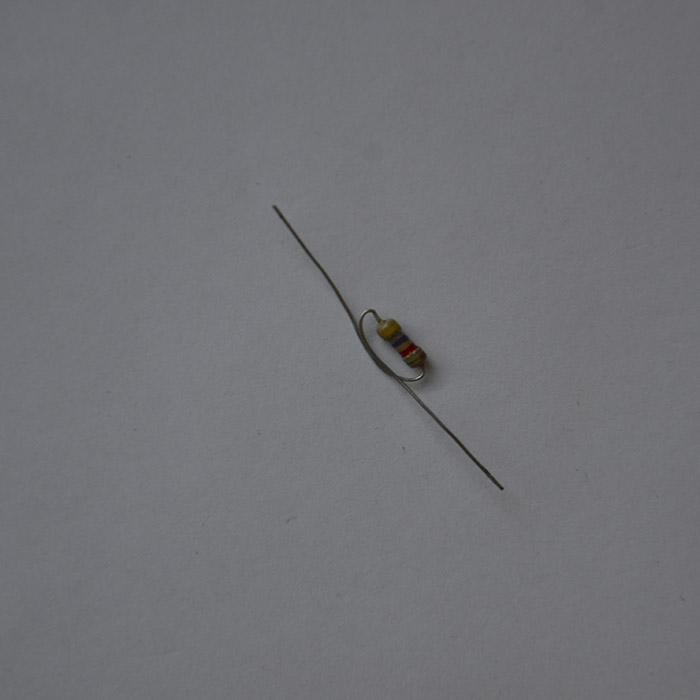resistor: (376, 315, 425, 369)
